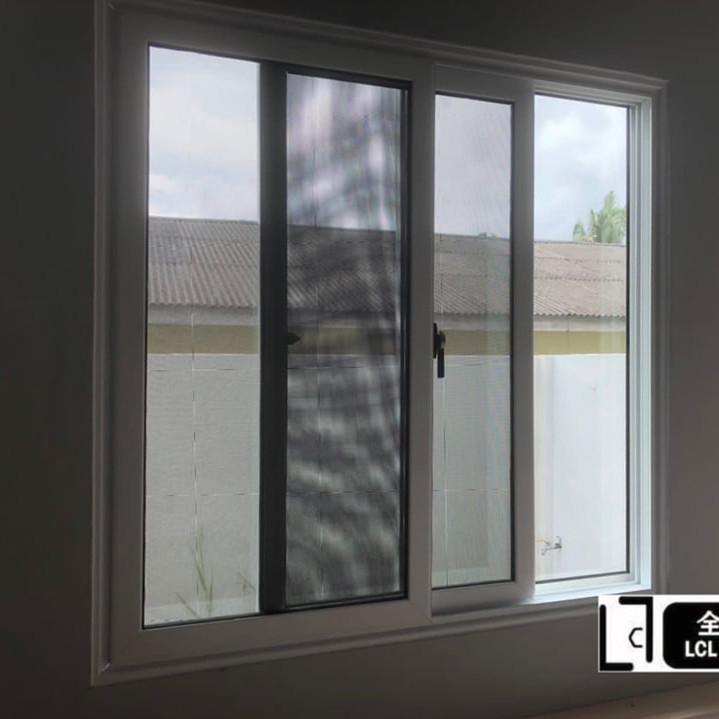Window: (127, 31, 636, 588)
